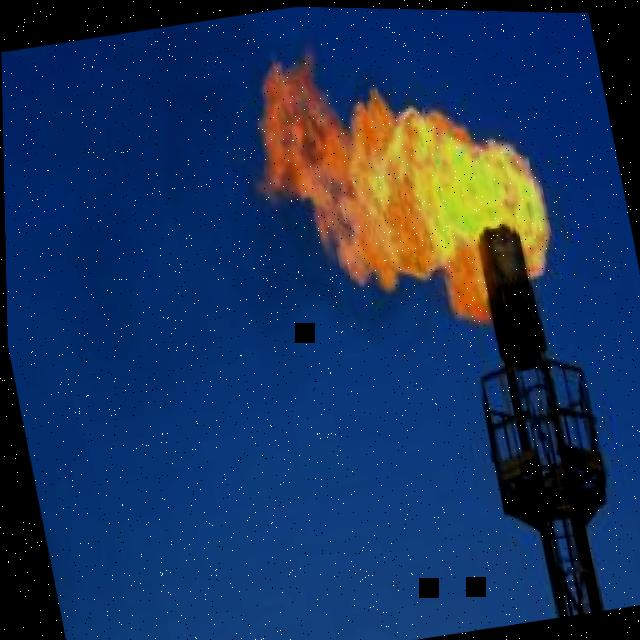fire: (256, 45, 550, 319)
